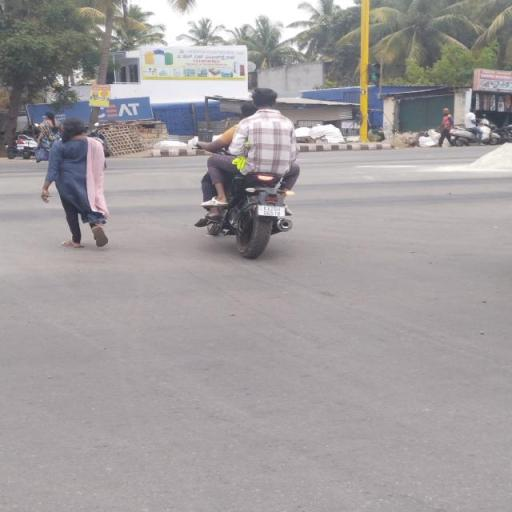bike: (188, 86, 312, 264)
numberplate: (259, 205, 288, 217)
withouthelmet: (253, 89, 276, 107), (242, 102, 256, 116)
